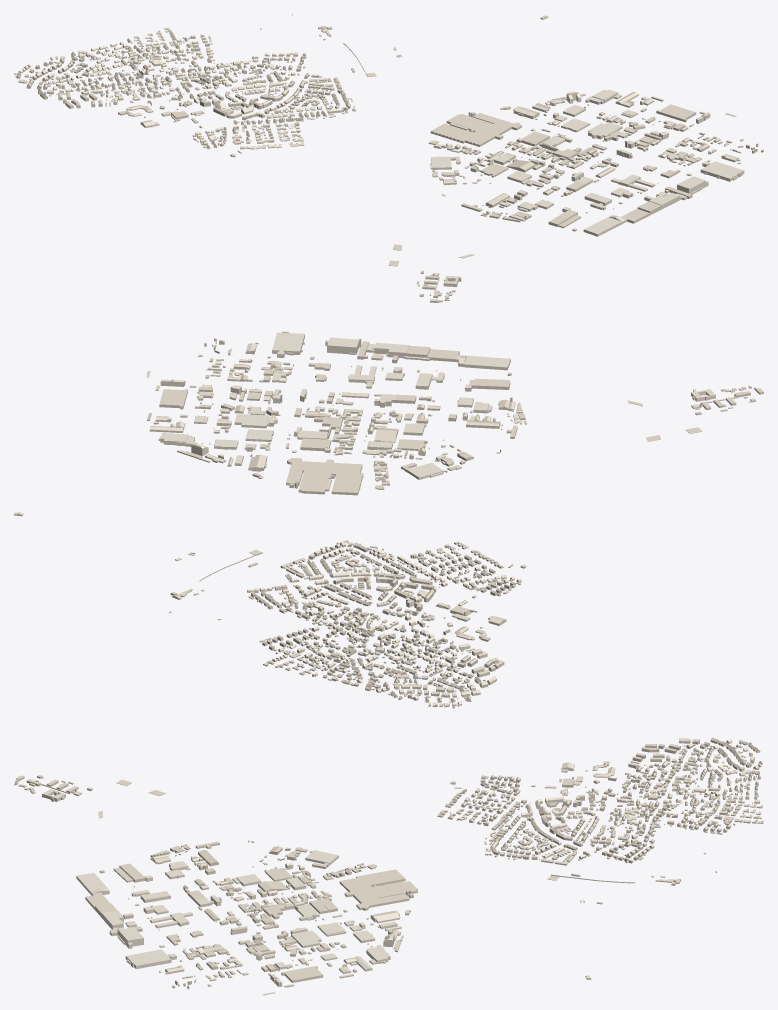
3 views of the same model, one above another, from view 1: azimuth 30°, elevation 25°; view 2: azimuth 150°, elevation 25°; view 3: azimuth 270°, elevation 25° (orthographic). The views are drawn at different scales.
Size of the model in its own units: 1920 by 41.57 by 2341.
